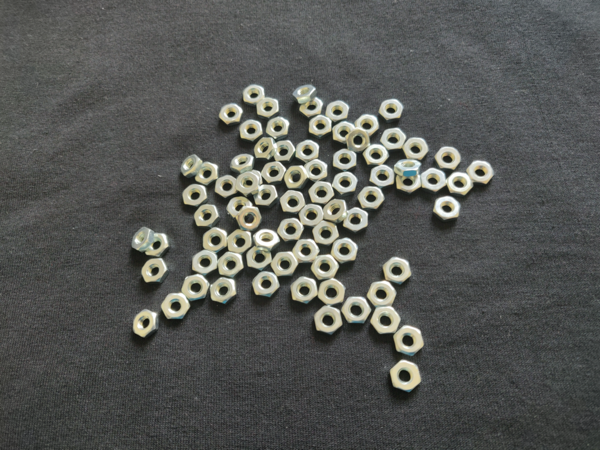nut: (389, 361, 422, 394), (393, 325, 426, 356), (313, 305, 344, 337), (370, 305, 401, 337), (381, 257, 414, 287), (131, 309, 160, 340), (341, 297, 372, 325), (291, 276, 319, 306), (163, 293, 190, 322), (251, 272, 281, 298), (209, 277, 239, 303), (311, 254, 339, 281), (293, 239, 320, 267), (434, 145, 463, 171), (358, 185, 386, 211), (331, 237, 359, 263), (318, 279, 346, 305), (368, 282, 396, 308), (271, 252, 299, 278), (312, 220, 340, 246), (466, 161, 495, 186), (433, 195, 462, 220), (142, 258, 169, 284), (420, 168, 446, 195), (144, 233, 171, 259), (182, 275, 209, 301), (277, 218, 305, 243), (278, 189, 306, 214), (191, 249, 219, 274), (226, 231, 254, 256), (447, 172, 473, 198), (344, 128, 370, 154), (343, 208, 370, 233), (194, 203, 220, 228), (214, 174, 240, 199), (333, 170, 358, 196), (265, 116, 291, 141), (247, 247, 272, 272), (218, 252, 243, 277), (308, 181, 334, 205), (194, 161, 220, 185), (324, 99, 351, 122), (132, 227, 154, 255), (369, 165, 397, 187), (236, 207, 262, 230), (324, 200, 348, 224), (218, 102, 243, 125), (271, 140, 296, 163), (303, 158, 328, 181), (379, 98, 404, 121), (403, 137, 428, 160), (332, 149, 358, 171), (363, 144, 389, 166), (254, 185, 277, 209), (296, 139, 321, 161), (355, 114, 380, 136), (283, 167, 308, 189), (240, 120, 263, 143), (382, 128, 406, 150), (308, 115, 332, 137), (183, 185, 207, 207), (238, 171, 260, 195), (262, 162, 287, 183), (254, 137, 276, 160), (181, 155, 203, 178), (299, 97, 324, 117), (254, 229, 280, 248), (243, 84, 265, 106), (302, 205, 324, 227), (333, 122, 356, 143), (227, 196, 250, 217), (395, 160, 423, 177), (292, 86, 318, 104), (229, 155, 255, 173), (256, 98, 280, 117), (396, 176, 421, 194)
